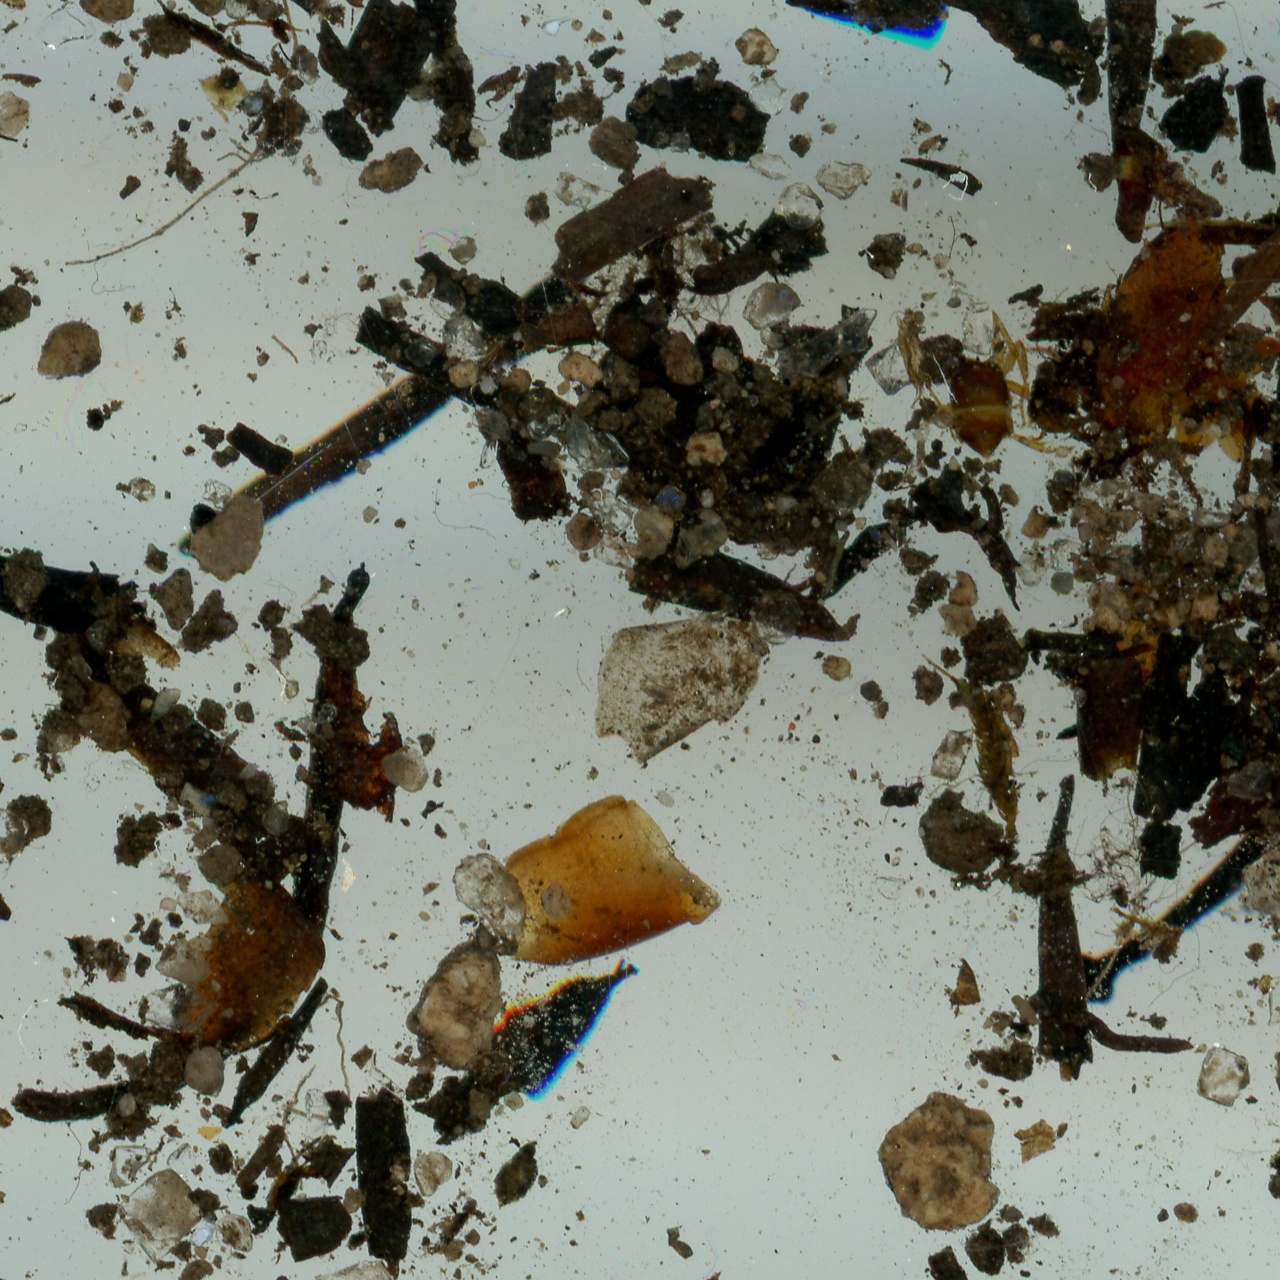arthropod: (925, 304, 1057, 465), (955, 227, 980, 258), (1108, 881, 1130, 910)
